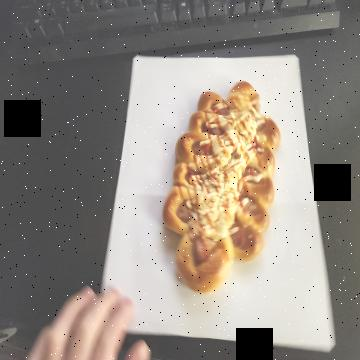pizza_bread: (168, 82, 280, 297)
